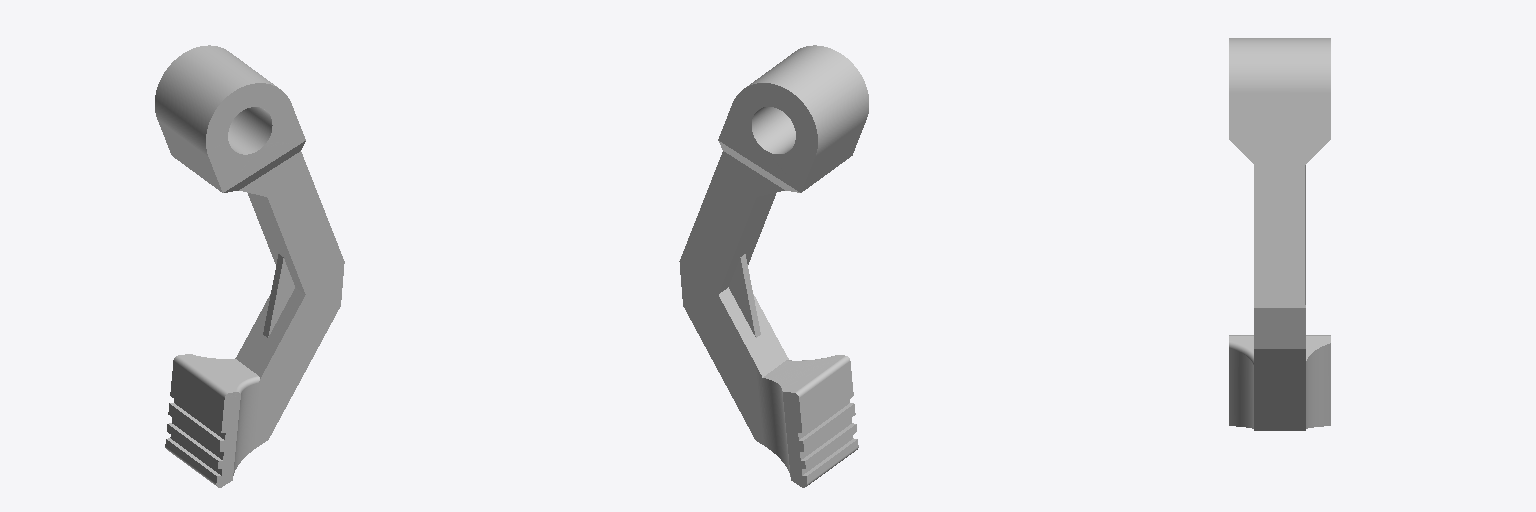
File: joint6l.obj
3 views of the same model, side by side, from view 1: azimuth 30°, elevation 25°; view 2: azimuth 150°, elevation 25°; view 3: azimuth 270°, elevation 25° (orthographic).
Parts seen in each view (by area): view 1: joint6l; view 2: joint6l; view 3: joint6l.
Boxes of the visible parts, box(x1,y1,x2,y2) form: joint6l: box(155, 45, 344, 487); joint6l: box(679, 45, 868, 487); joint6l: box(1229, 38, 1330, 430).
Size of the model in its own units: 3.41 by 8.53 by 2.01.